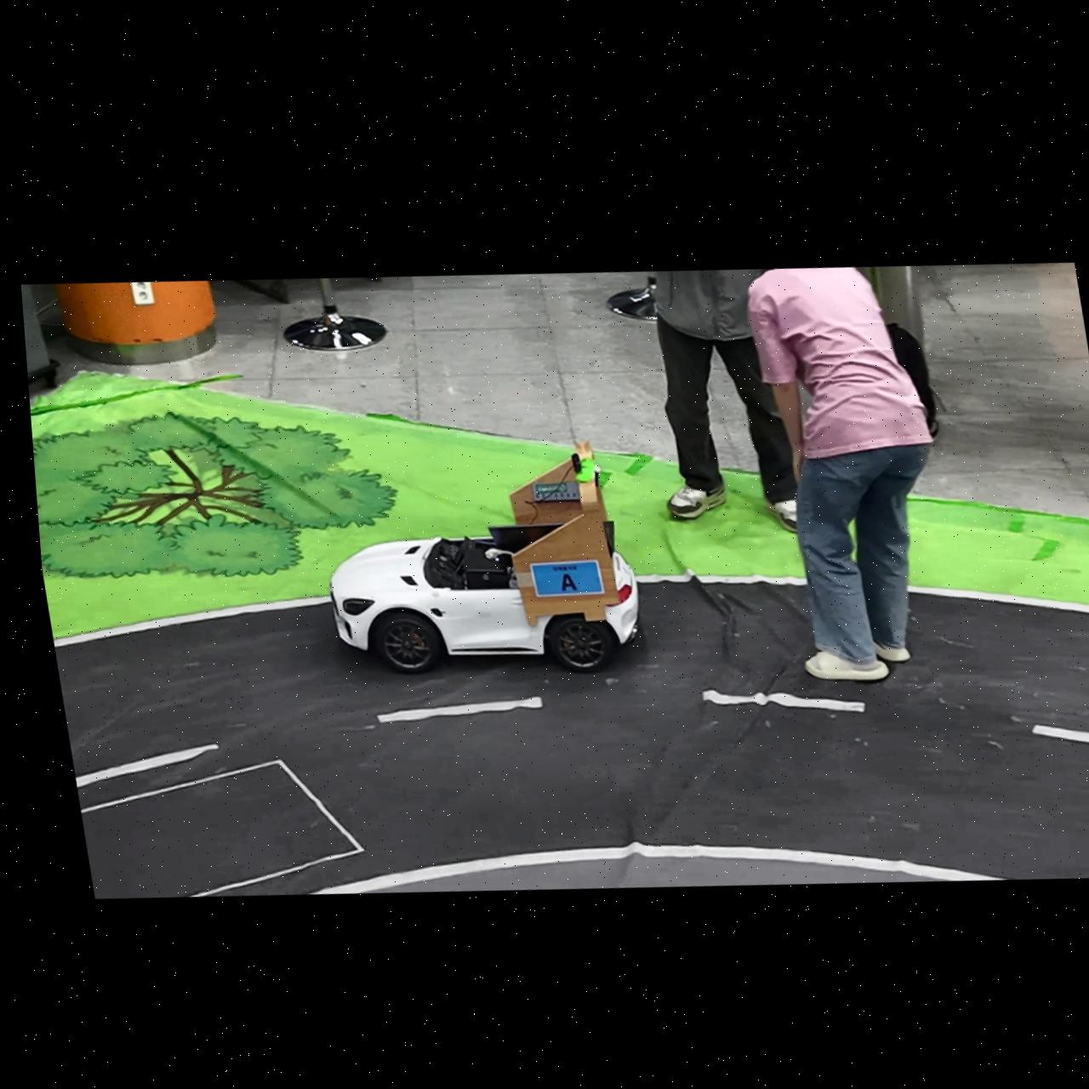broken_line: (76, 744, 219, 788), (377, 696, 542, 723), (703, 690, 865, 712), (1032, 725, 1089, 743)
